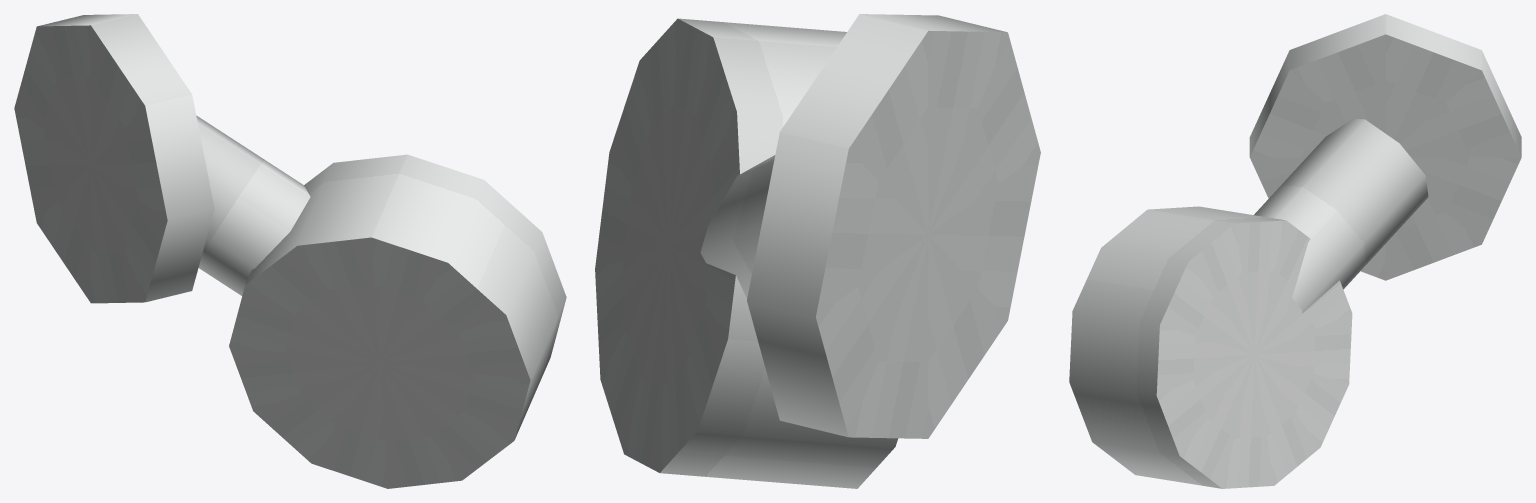
File: nycsignalarm_stub_236.obj
3 views of the same model, side by side, from view 1: azimuth 30°, elevation 25°; view 2: azimuth 150°, elevation 25°; view 3: azimuth 270°, elevation 25° (orthographic). The views are drawn at different scales.
Visible parts, largest first — view 1: nycsignalarm_stub_236; view 2: nycsignalarm_stub_236; view 3: nycsignalarm_stub_236.
Part boxes in pixels (bbox=[...]): nycsignalarm_stub_236: bbox=[14, 14, 566, 488]; nycsignalarm_stub_236: bbox=[595, 14, 1040, 488]; nycsignalarm_stub_236: bbox=[1069, 14, 1521, 488].
Size of the model in its own units: 0.4565 by 0.5369 by 0.5824.
